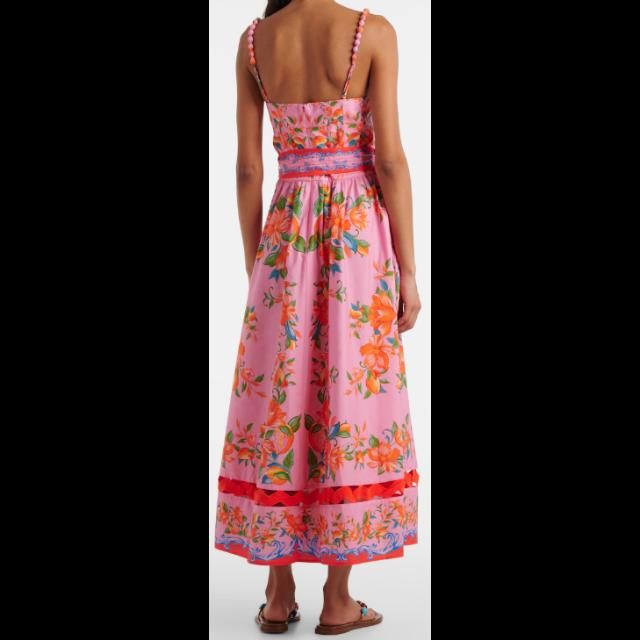dress: (225, 12, 420, 560)
